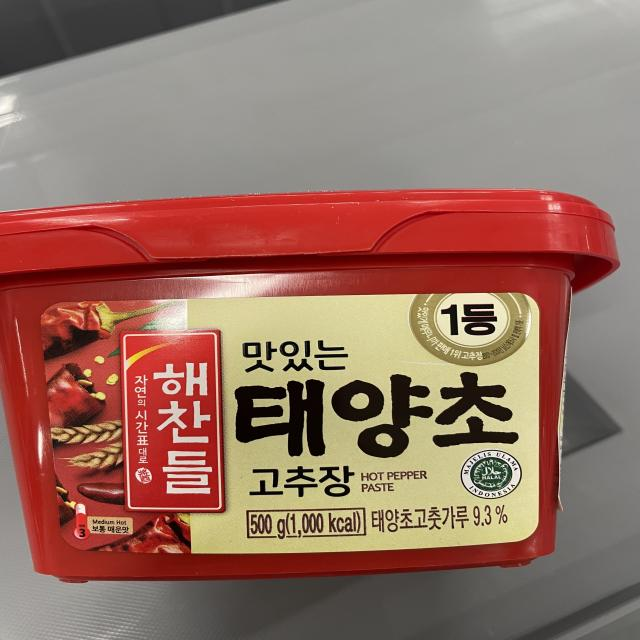object_name: (4, 208, 578, 552)
